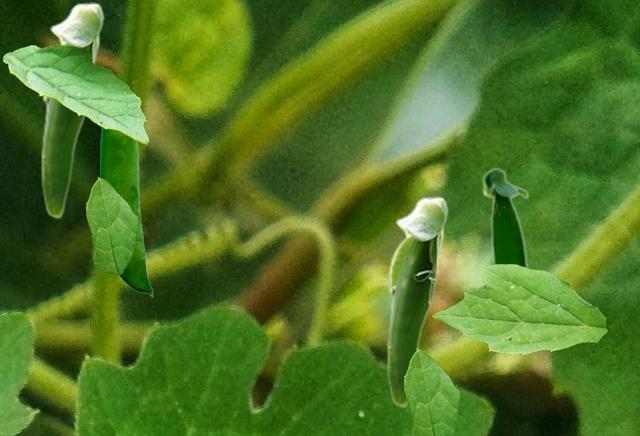pea: (40, 2, 104, 218), (386, 196, 448, 407), (100, 128, 152, 296), (481, 166, 529, 266)
